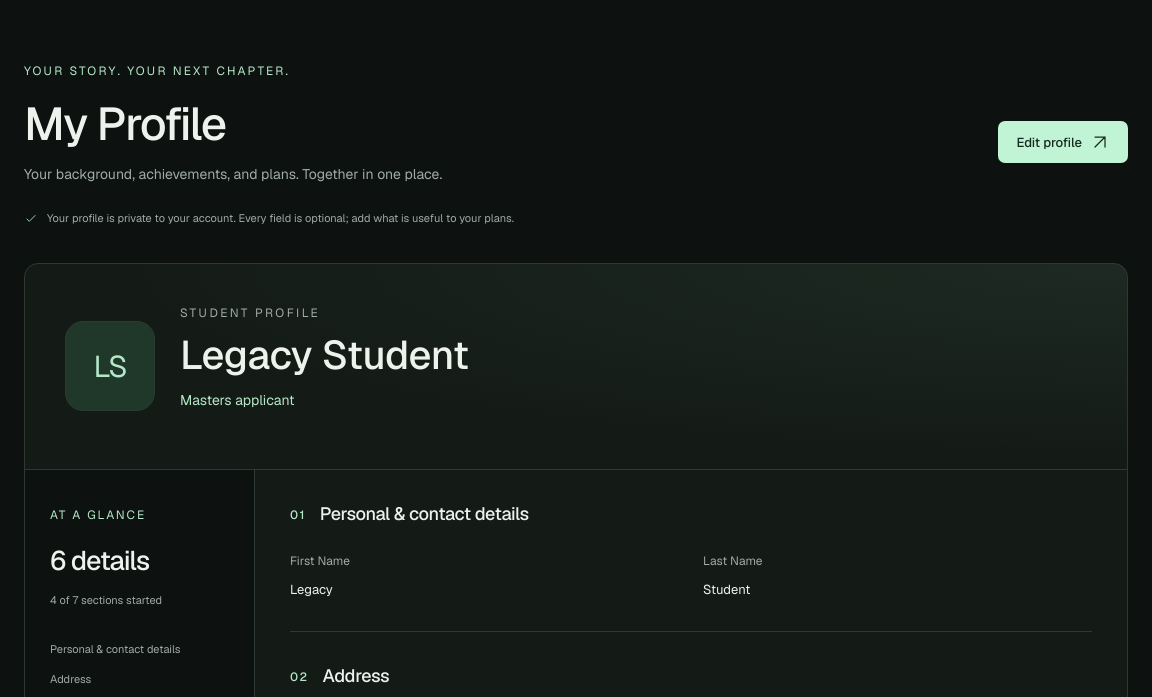
Scenario: legacy six-field profiles open in resume view and keep their details when extended
Click the button "Edit profile" at (1063, 142), box [998,121,1128,163]
(page scrolled)
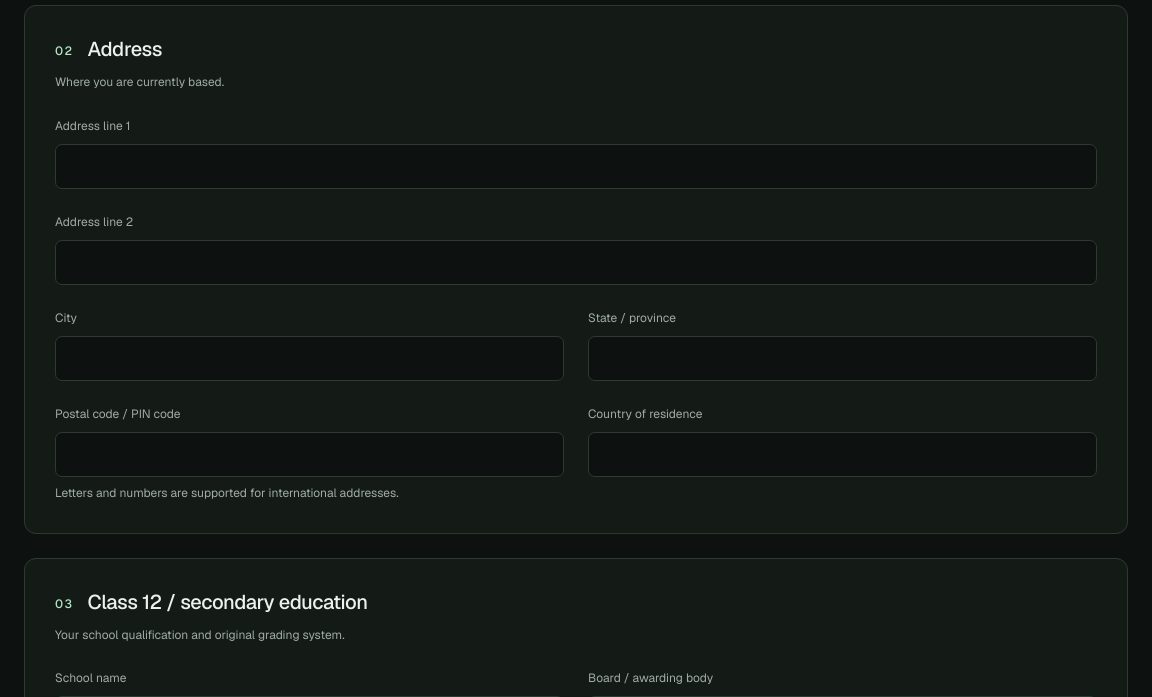
Type "Berlin" into the field labelled "City" at (310, 358), box [55,336,564,381]
(page scrolled)
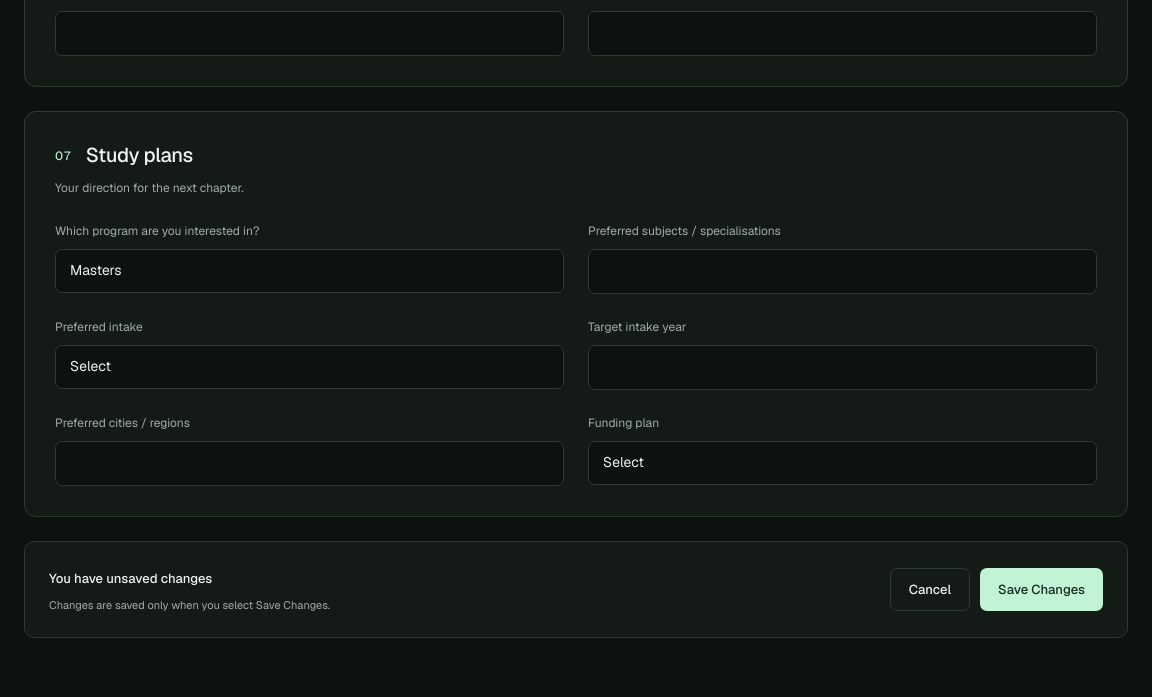
Click the button "Save Changes" at (1042, 590), box [980,568,1103,612]
(page scrolled)
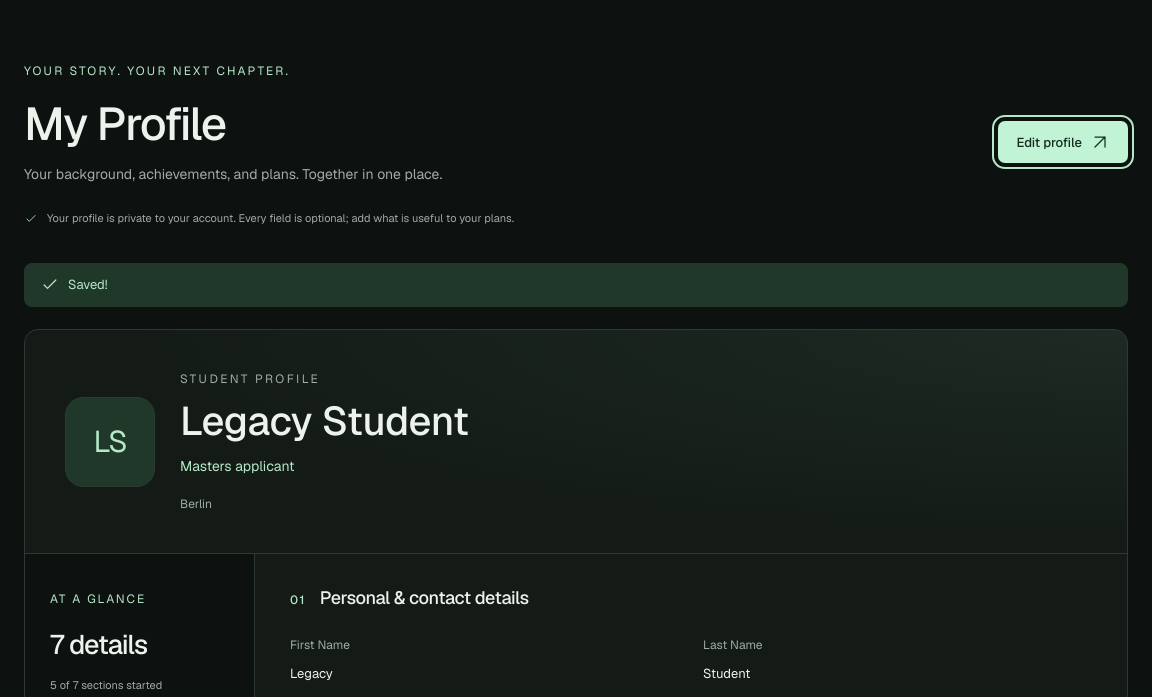
Now the button "Edit profile" is shown, box [998,121,1128,163]
